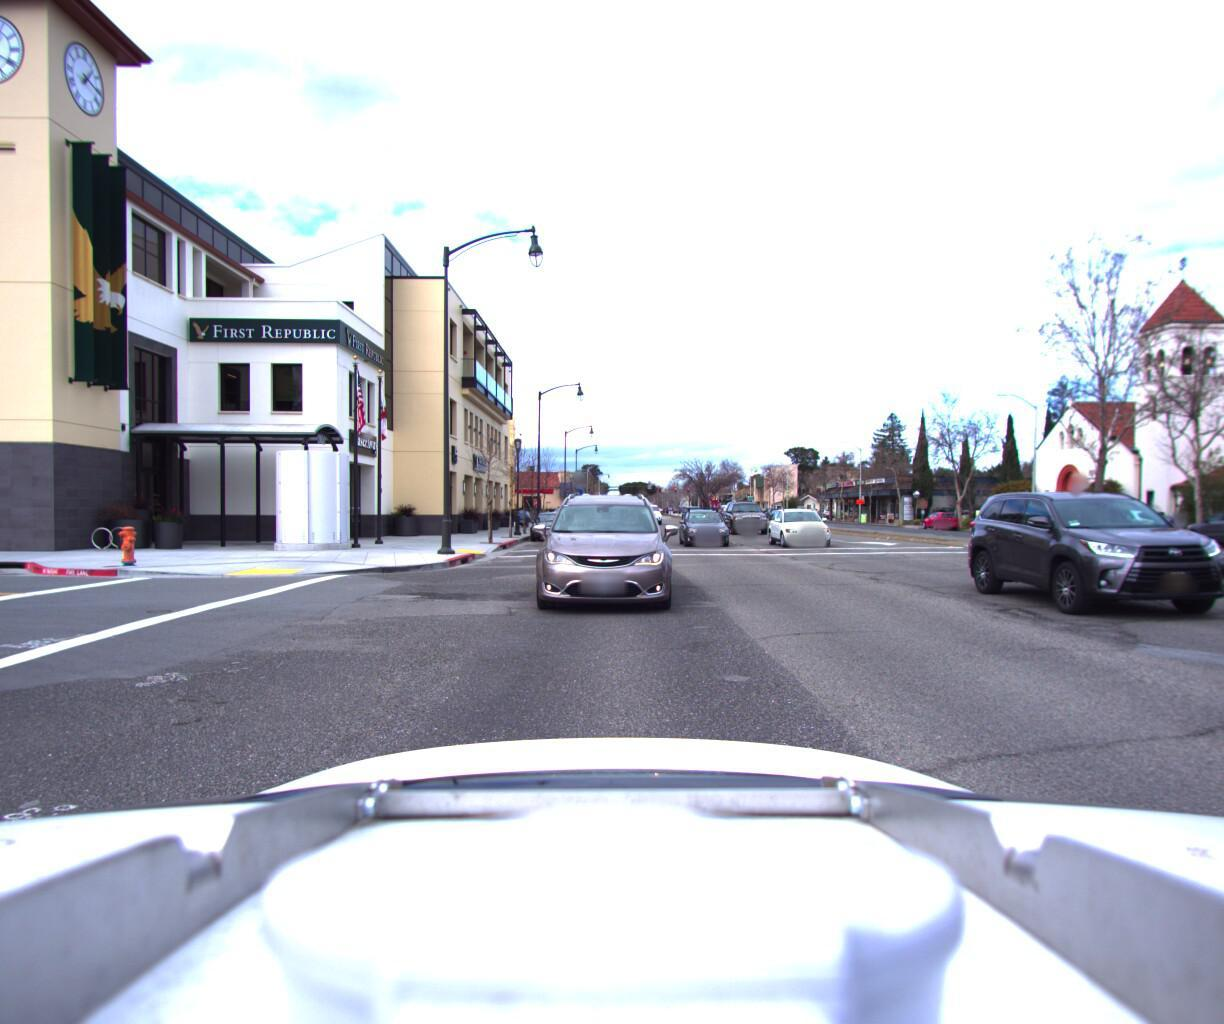car: (962, 478, 1224, 633), (507, 478, 686, 618), (1086, 505, 1176, 541), (763, 505, 839, 547), (676, 502, 741, 548), (720, 494, 774, 533), (1175, 508, 1224, 550), (522, 507, 571, 540), (917, 507, 963, 528), (638, 499, 662, 521)
